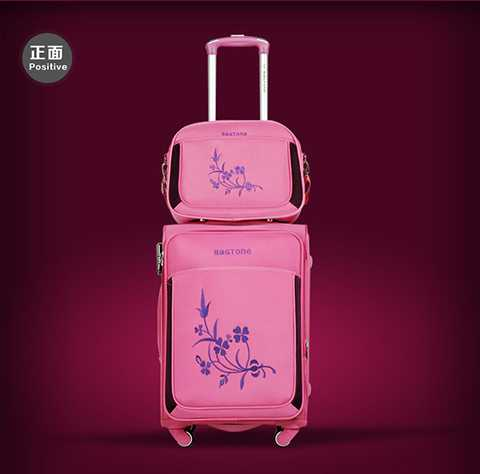luggage: (152, 32, 315, 450)
